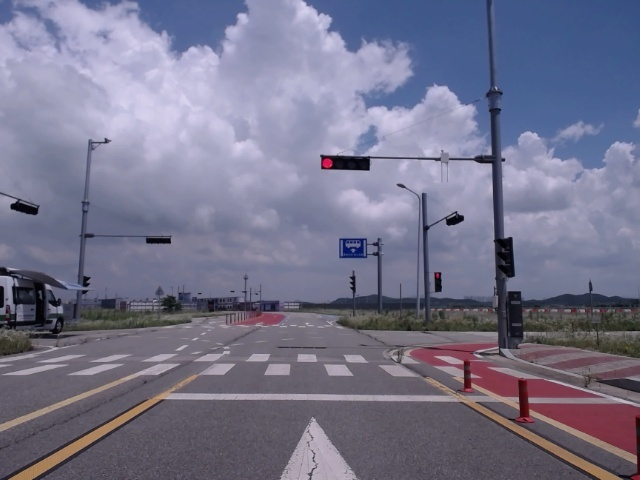red_4: (321, 157, 370, 171)
